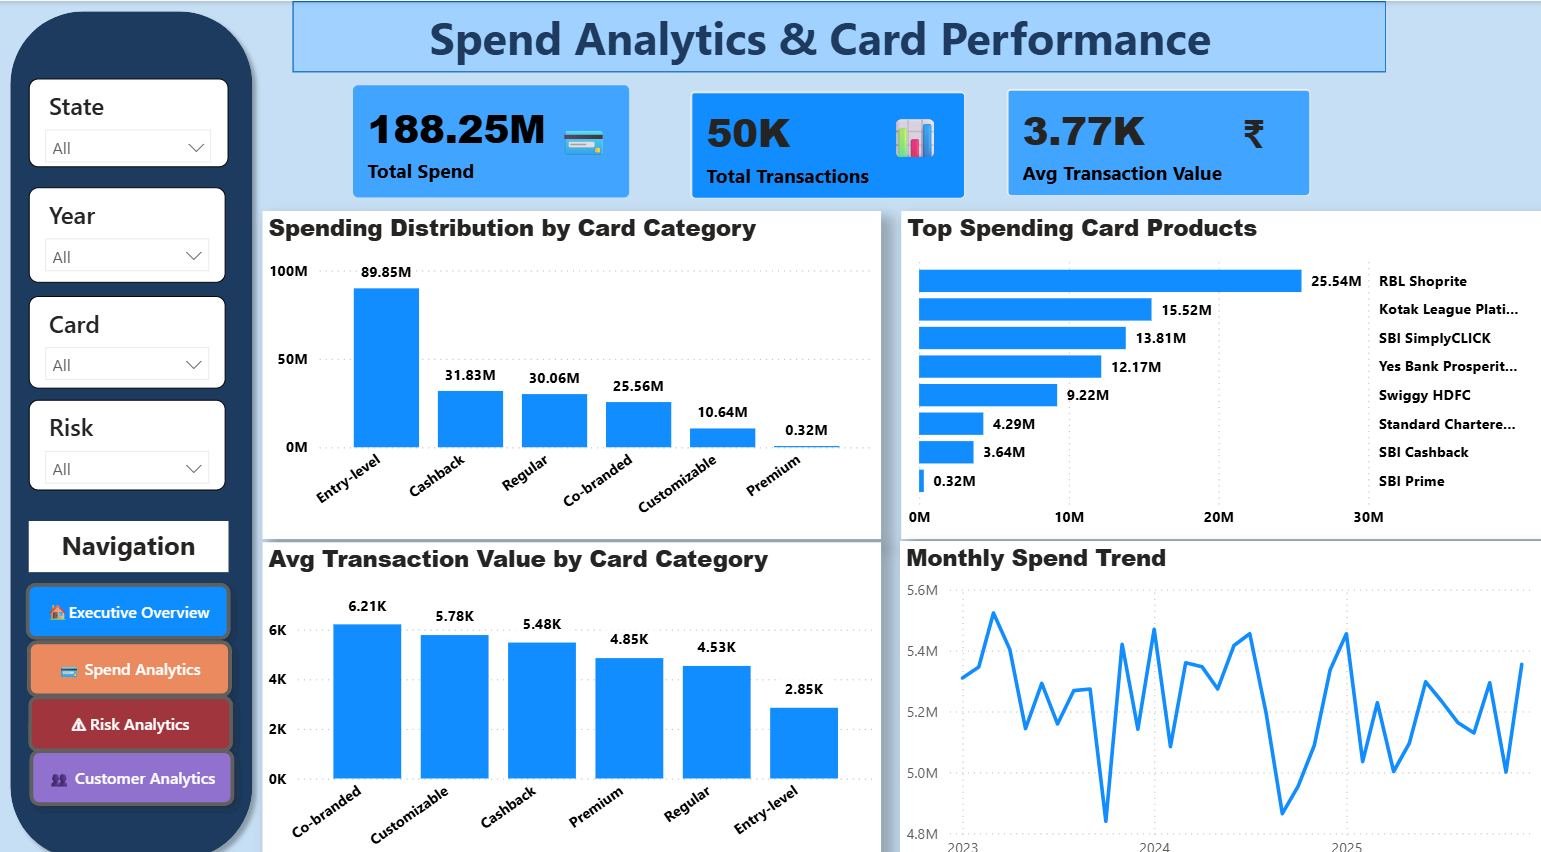

The page's visual inventory and layout, read from the dashboard file:
{"tool":"powerbi","page":{"name":" Spend Analytics","canvas":[1280,720],"ordinal":1},"visuals":[{"type":"shape","box":[242.3,0,906.7,59.2],"z":0,"group":"g4"},{"type":"clusteredColumnChart","title":"Spending Distribution by Card Category","fields":{"Y":["Calculation Table.Total Spend"],"Category":["DimCard.CardCategory"]},"box":[218.1,173.8,513,272.1],"z":0},{"type":"textbox","box":[299,0,792.2,67.1],"z":1000,"group":"g4"},{"type":"clusteredBarChart","title":"Top Spending Card Products","fields":{"Category":["DimCard.CardName"],"Y":["Calculation Table.Total Spend"]},"box":[746.7,173.8,533.3,272.1],"z":1000},{"type":"lineClusteredColumnComboChart","title":"Avg Transaction Value by Card Category","fields":{"Category":["DimCard.CardCategory"],"Y":["Calculation Table.Avg Transaction Value"]},"box":[218.1,448.2,513,272.1],"z":2000},{"type":"cardVisual","fields":{"Data":["Calculation Table.Total Spend"]},"box":[275.8,52.5,263.5,127.3],"z":3000,"group":"g3"},{"type":"lineChart","title":" Monthly Spend Trend ","fields":{"Y":["Calculation Table.Total Spend"],"Category":["DimDate.Date.Variation.Date Hierarchy.Year","DimDate.Date.Variation.Date Hierarchy.Month"]},"box":[746.2,447.7,533.7,272.5],"z":3000},{"type":"shape","box":[0,0,217.7,720.2],"z":4000},{"type":"cardVisual","fields":{"Data":["Calculation Table.Total Transactions"]},"box":[555,58.1,262.4,123.9],"z":4000,"group":"g2"},{"type":"cardVisual","fields":{"Data":["Calculation Table.Average Transaction Value"]},"box":[817.4,55.8,287,123.9],"z":5000,"group":"g1"},{"type":"slicer","fields":{"Values":["DimDate.Date.Variation.Date Hierarchy.Year"]},"box":[23.4,154.1,163,79.3],"z":5000},{"type":"slicer","fields":{"Values":["DimCard.CardCategory"]},"box":[23.4,244.5,163,77],"z":6000},{"type":"slicer","fields":{"Values":["DimCustomer.State"]},"box":[23.4,64.8,165.3,73.7],"z":7000},{"type":"slicer","fields":{"Values":["FactRiskProfile.RiskCategory"]},"box":[23.4,330.5,163,74.8],"z":8000},{"type":"textbox","box":[23.4,431,165.3,42.4],"z":9000},{"type":"actionButton","box":[12.1,473.5,187.6,64.8],"z":10000},{"type":"actionButton","box":[13.4,521.5,187.6,64.8],"z":11000},{"type":"textbox","box":[456.7,83.8,58.1,70.3],"z":11023,"group":"g3"},{"type":"textbox","box":[731.4,86,61.4,74.8],"z":11024,"group":"g2"},{"type":"textbox","box":[1025.1,82.6,50.2,55.8],"z":11025,"group":"g1"},{"type":"actionButton","box":[14.5,567.2,187.6,64.8],"z":12000},{"type":"actionButton","box":[15.6,611.9,187.6,64.8],"z":13000},{"type":"group","id":"g1","title":"Group 1","box":[817.4,55.8,287,123.9],"z":14000},{"type":"group","id":"g2","title":"Group 2","box":[555,58.1,262.4,123.9],"z":15000},{"type":"group","id":"g3","title":"Group 3","box":[275.8,52.5,263.5,127.3],"z":16000},{"type":"group","id":"g4","title":"Group 4","box":[242.3,0,906.7,67],"z":17000}]}

Visuals, with their boxes in screenshot pixels (x1, y1, x2, y2), scaled from the page's 1280x720 canvas onto the 1541x852 screenshot:
shape: 292, 0, 1383, 70
"Spending Distribution by Card Category" clusteredColumnChart: 263, 206, 880, 528
textbox: 360, 0, 1314, 79
"Top Spending Card Products" clusteredBarChart: 899, 206, 1540, 528
"Avg Transaction Value by Card Category" lineClusteredColumnComboChart: 263, 530, 880, 851
cardVisual - Calculation Table.Total Spend: 332, 62, 649, 213
" Monthly Spend Trend " lineChart: 898, 530, 1540, 851
shape: 0, 0, 262, 851
cardVisual - Calculation Table.Total Transactions: 668, 69, 984, 215
cardVisual - Calculation Table.Average Transaction Value: 984, 66, 1330, 213
slicer - DimDate.Date.Variation.Date Hierarchy.Year: 28, 182, 224, 276
slicer - DimCard.CardCategory: 28, 289, 224, 380
slicer - DimCustomer.State: 28, 77, 227, 164
slicer - FactRiskProfile.RiskCategory: 28, 391, 224, 480
textbox: 28, 510, 227, 560
actionButton: 15, 560, 240, 637
actionButton: 16, 617, 242, 694
textbox: 550, 99, 620, 182
textbox: 881, 102, 954, 190
textbox: 1234, 98, 1295, 164
actionButton: 17, 671, 243, 748
actionButton: 19, 724, 245, 801
"Group 1" group: 984, 66, 1330, 213
"Group 2" group: 668, 69, 984, 215
"Group 3" group: 332, 62, 649, 213
"Group 4" group: 292, 0, 1383, 79
